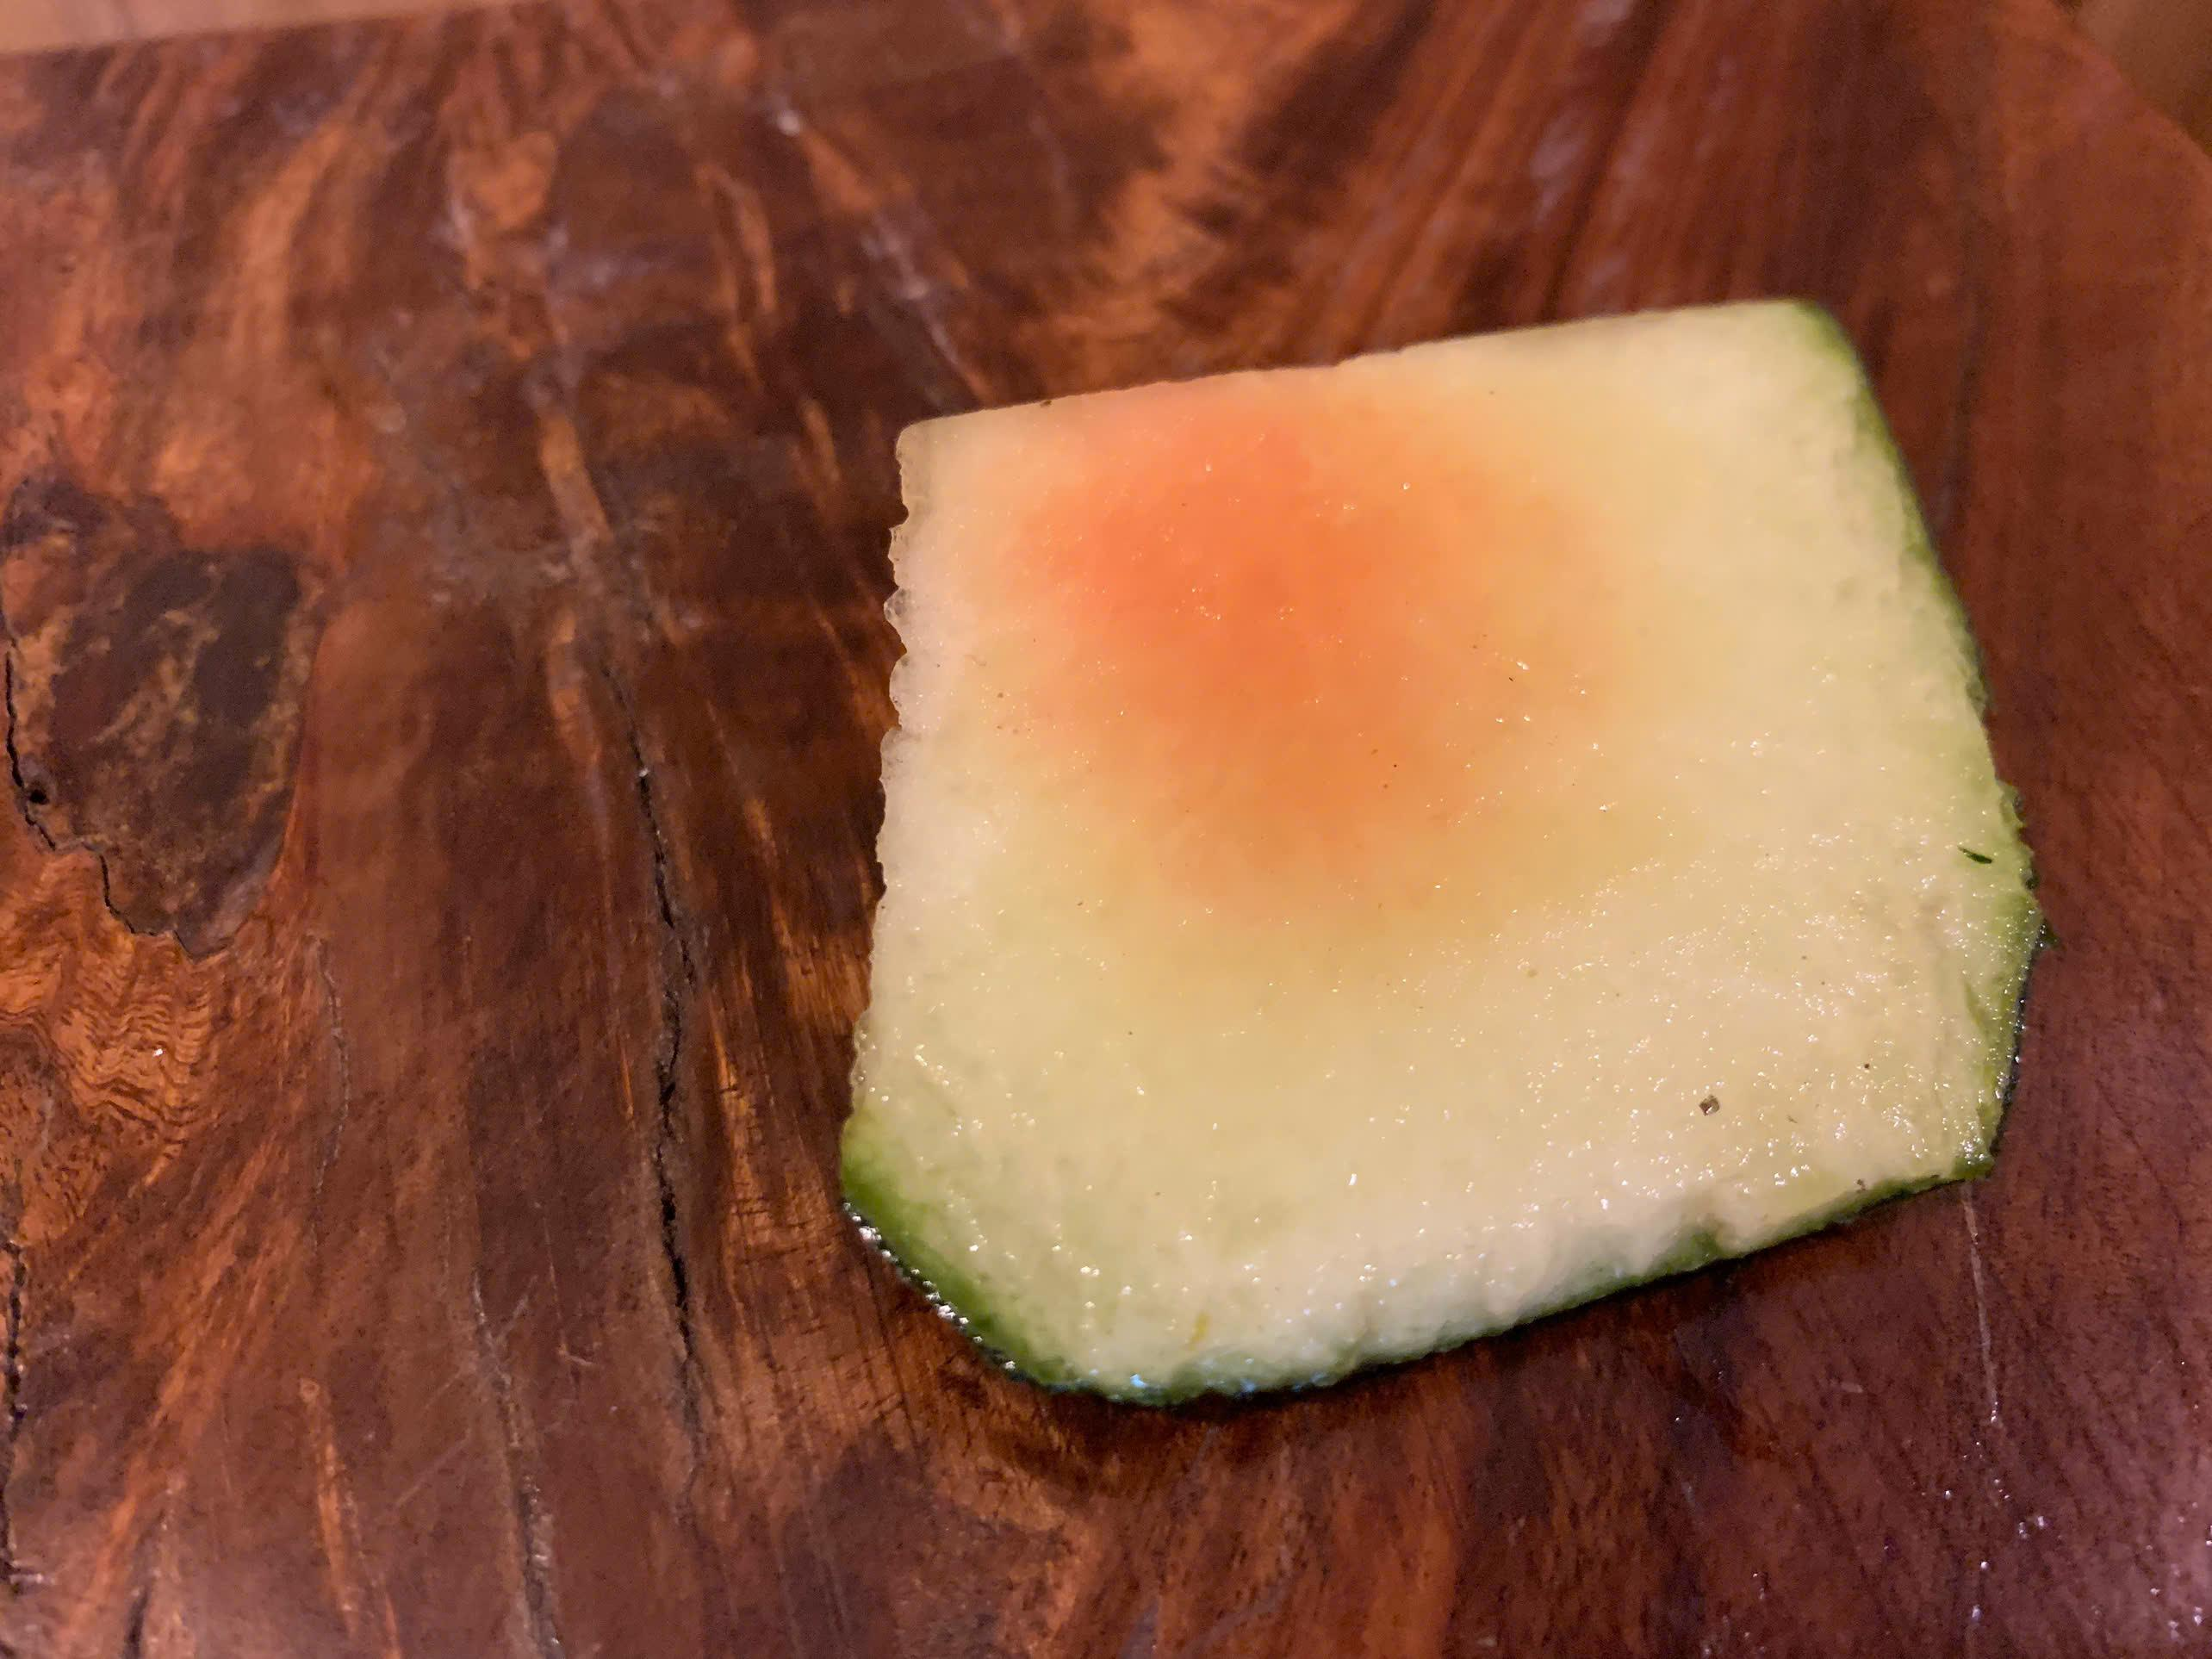Huu co: (850, 296, 2047, 1406)
